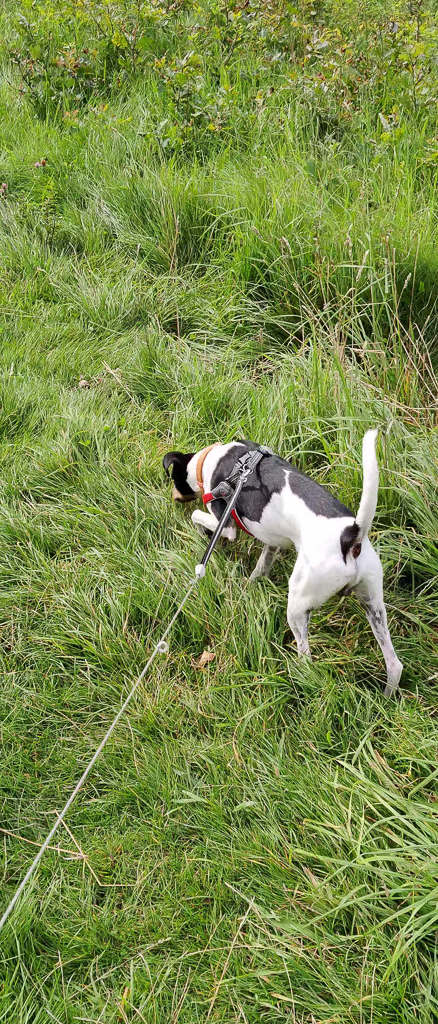Dog: (147, 410, 415, 710)
